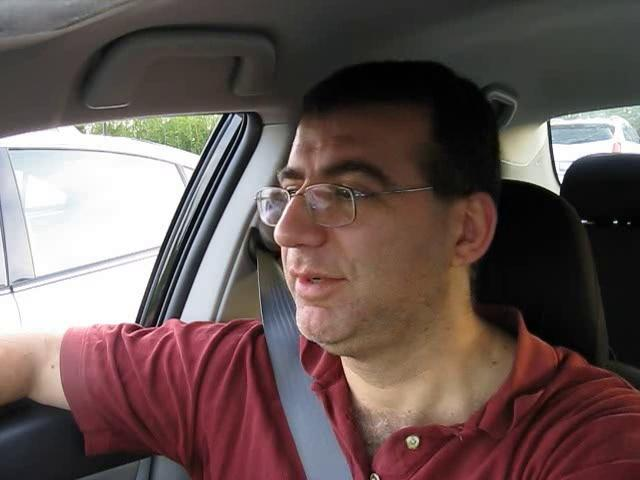no_yawn: (277, 258, 358, 312)
open_eyeR: (316, 175, 390, 219)
